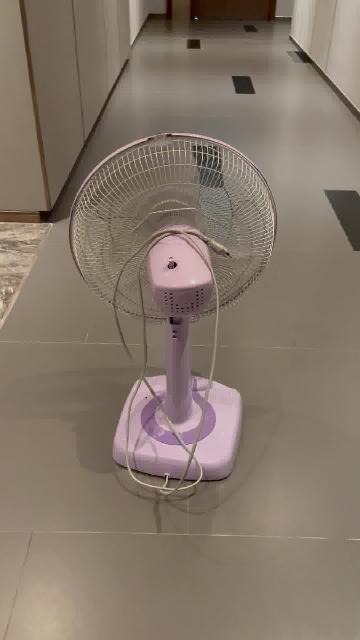Fan: (69, 132, 276, 484)
